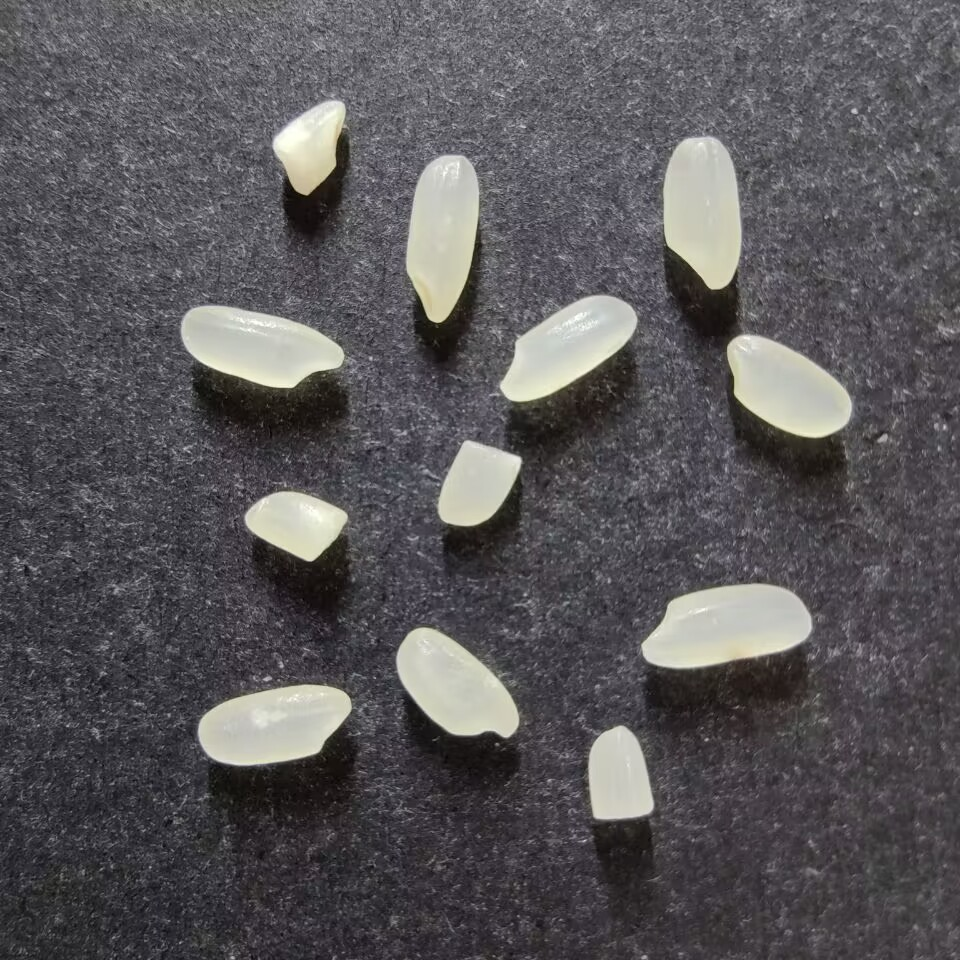broken: (436, 440, 522, 527), (244, 491, 348, 562), (271, 99, 345, 196), (586, 725, 655, 820)
rice: (498, 294, 639, 402), (640, 583, 812, 669), (395, 626, 519, 739), (180, 305, 344, 388), (726, 333, 853, 438), (404, 154, 480, 324), (197, 684, 351, 766), (661, 136, 742, 290)
